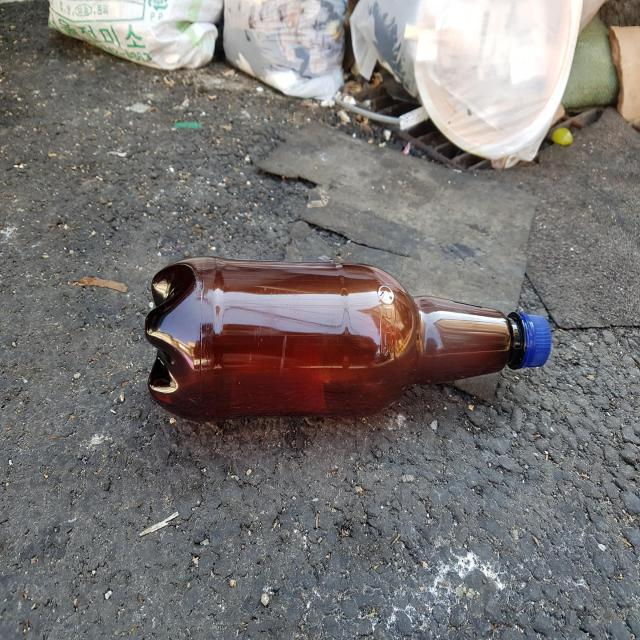plastic: (145, 257, 552, 421)
